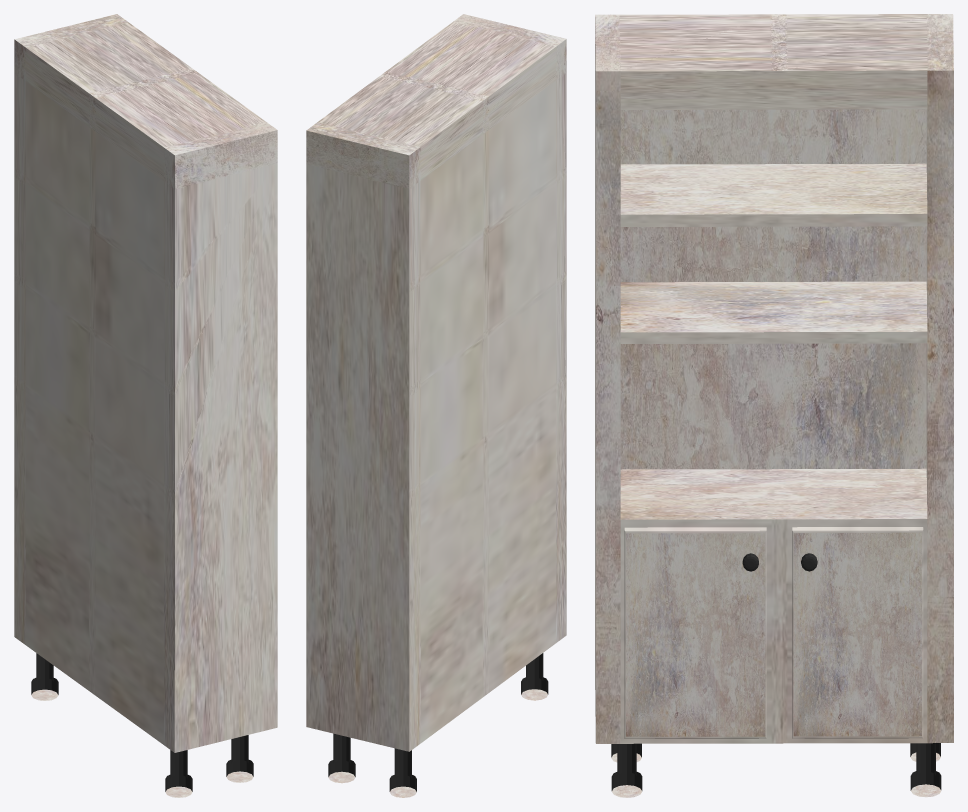
The model's file is SKAFFNOBOOK.fbx.
The picture shows the model from 3 angles, left to right: view 1: azimuth 30°, elevation 25°; view 2: azimuth 150°, elevation 25°; view 3: azimuth 270°, elevation 25°; orthographic projection. The views are drawn at different scales.
Visible parts, largest first — view 1: SHKAFBOLNICA.002; view 2: SHKAFBOLNICA.002; view 3: SHKAFBOLNICA.002.
Boxes of the visible parts, left/top/right/bottom form: SHKAFBOLNICA.002: left=14, top=14, right=277, bottom=797; SHKAFBOLNICA.002: left=306, top=14, right=566, bottom=797; SHKAFBOLNICA.002: left=595, top=14, right=953, bottom=797.
Size of the model in its own units: 163 by 851 by 378.
2 materials, 1 textured.
